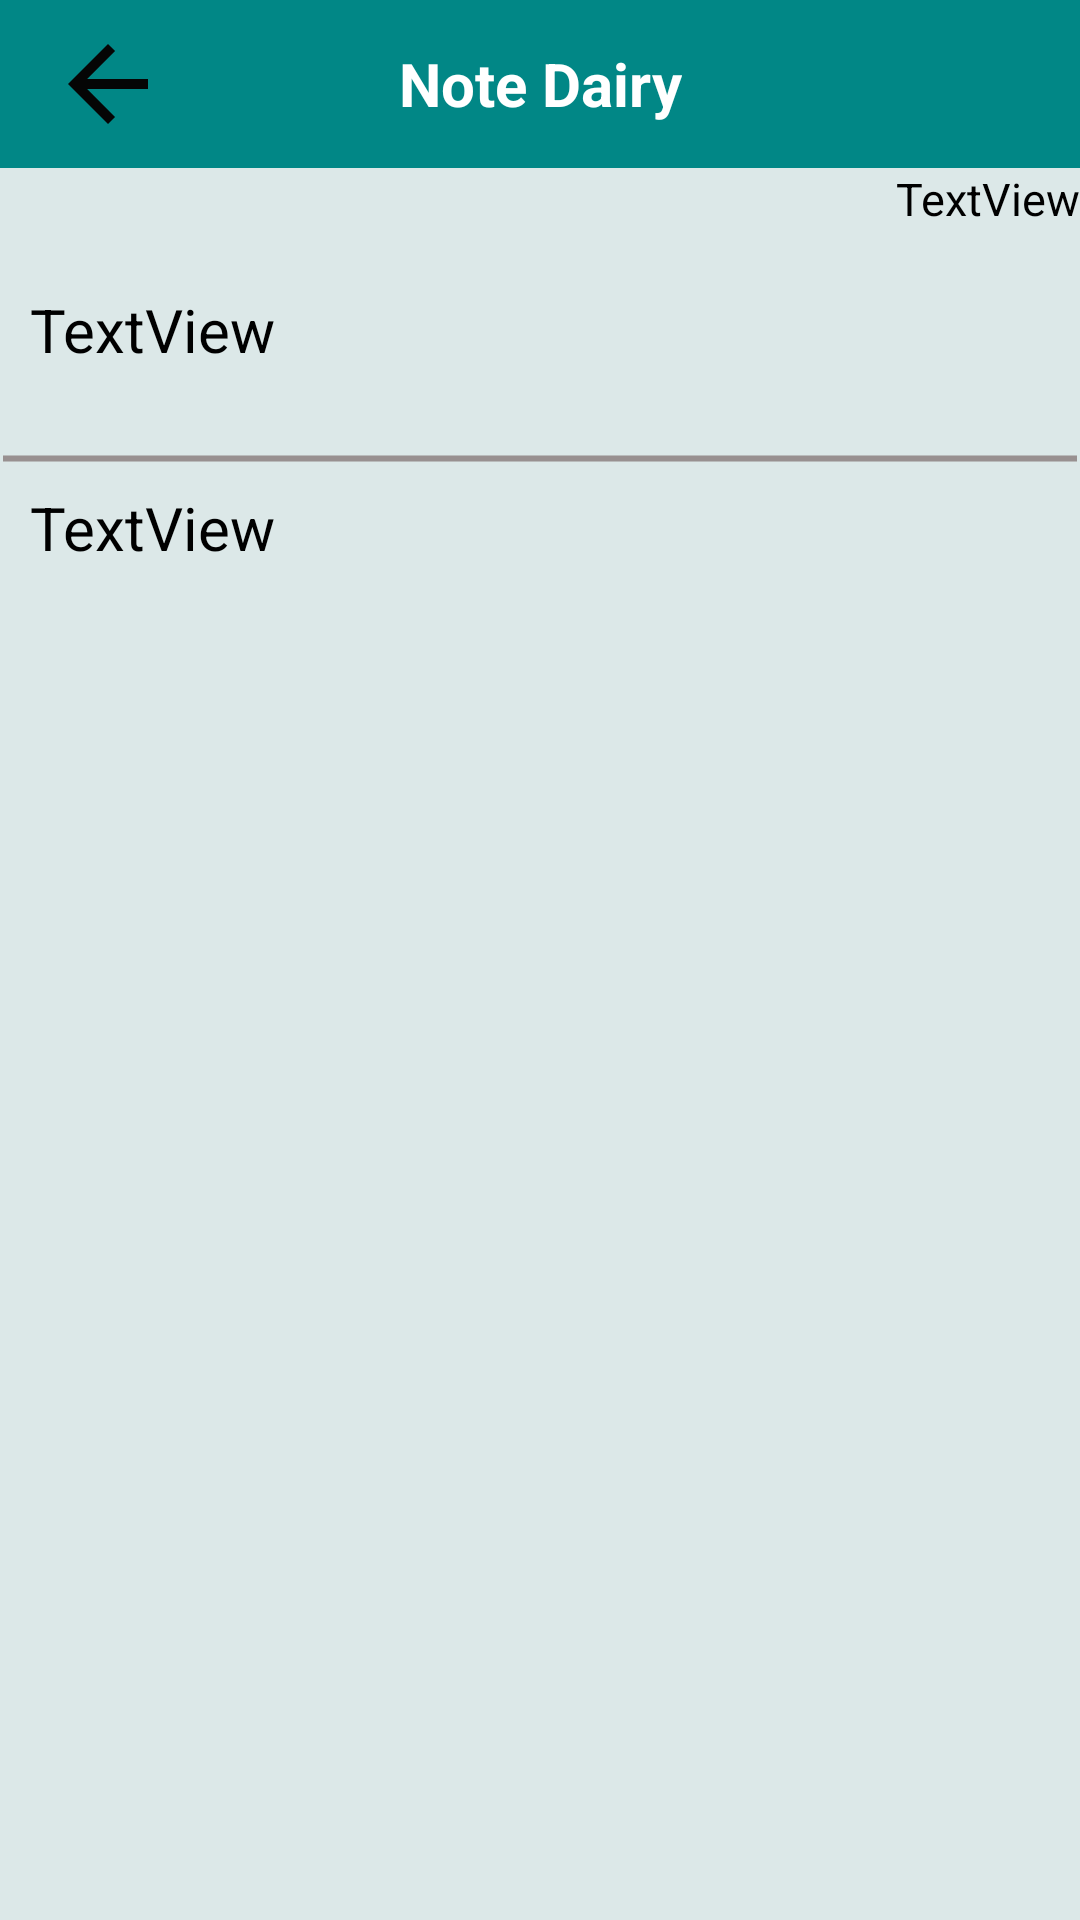

Named icons in this screenshot (1080px x 1920px) and their centers, point (x, y):
arrow back: point (108, 84)
